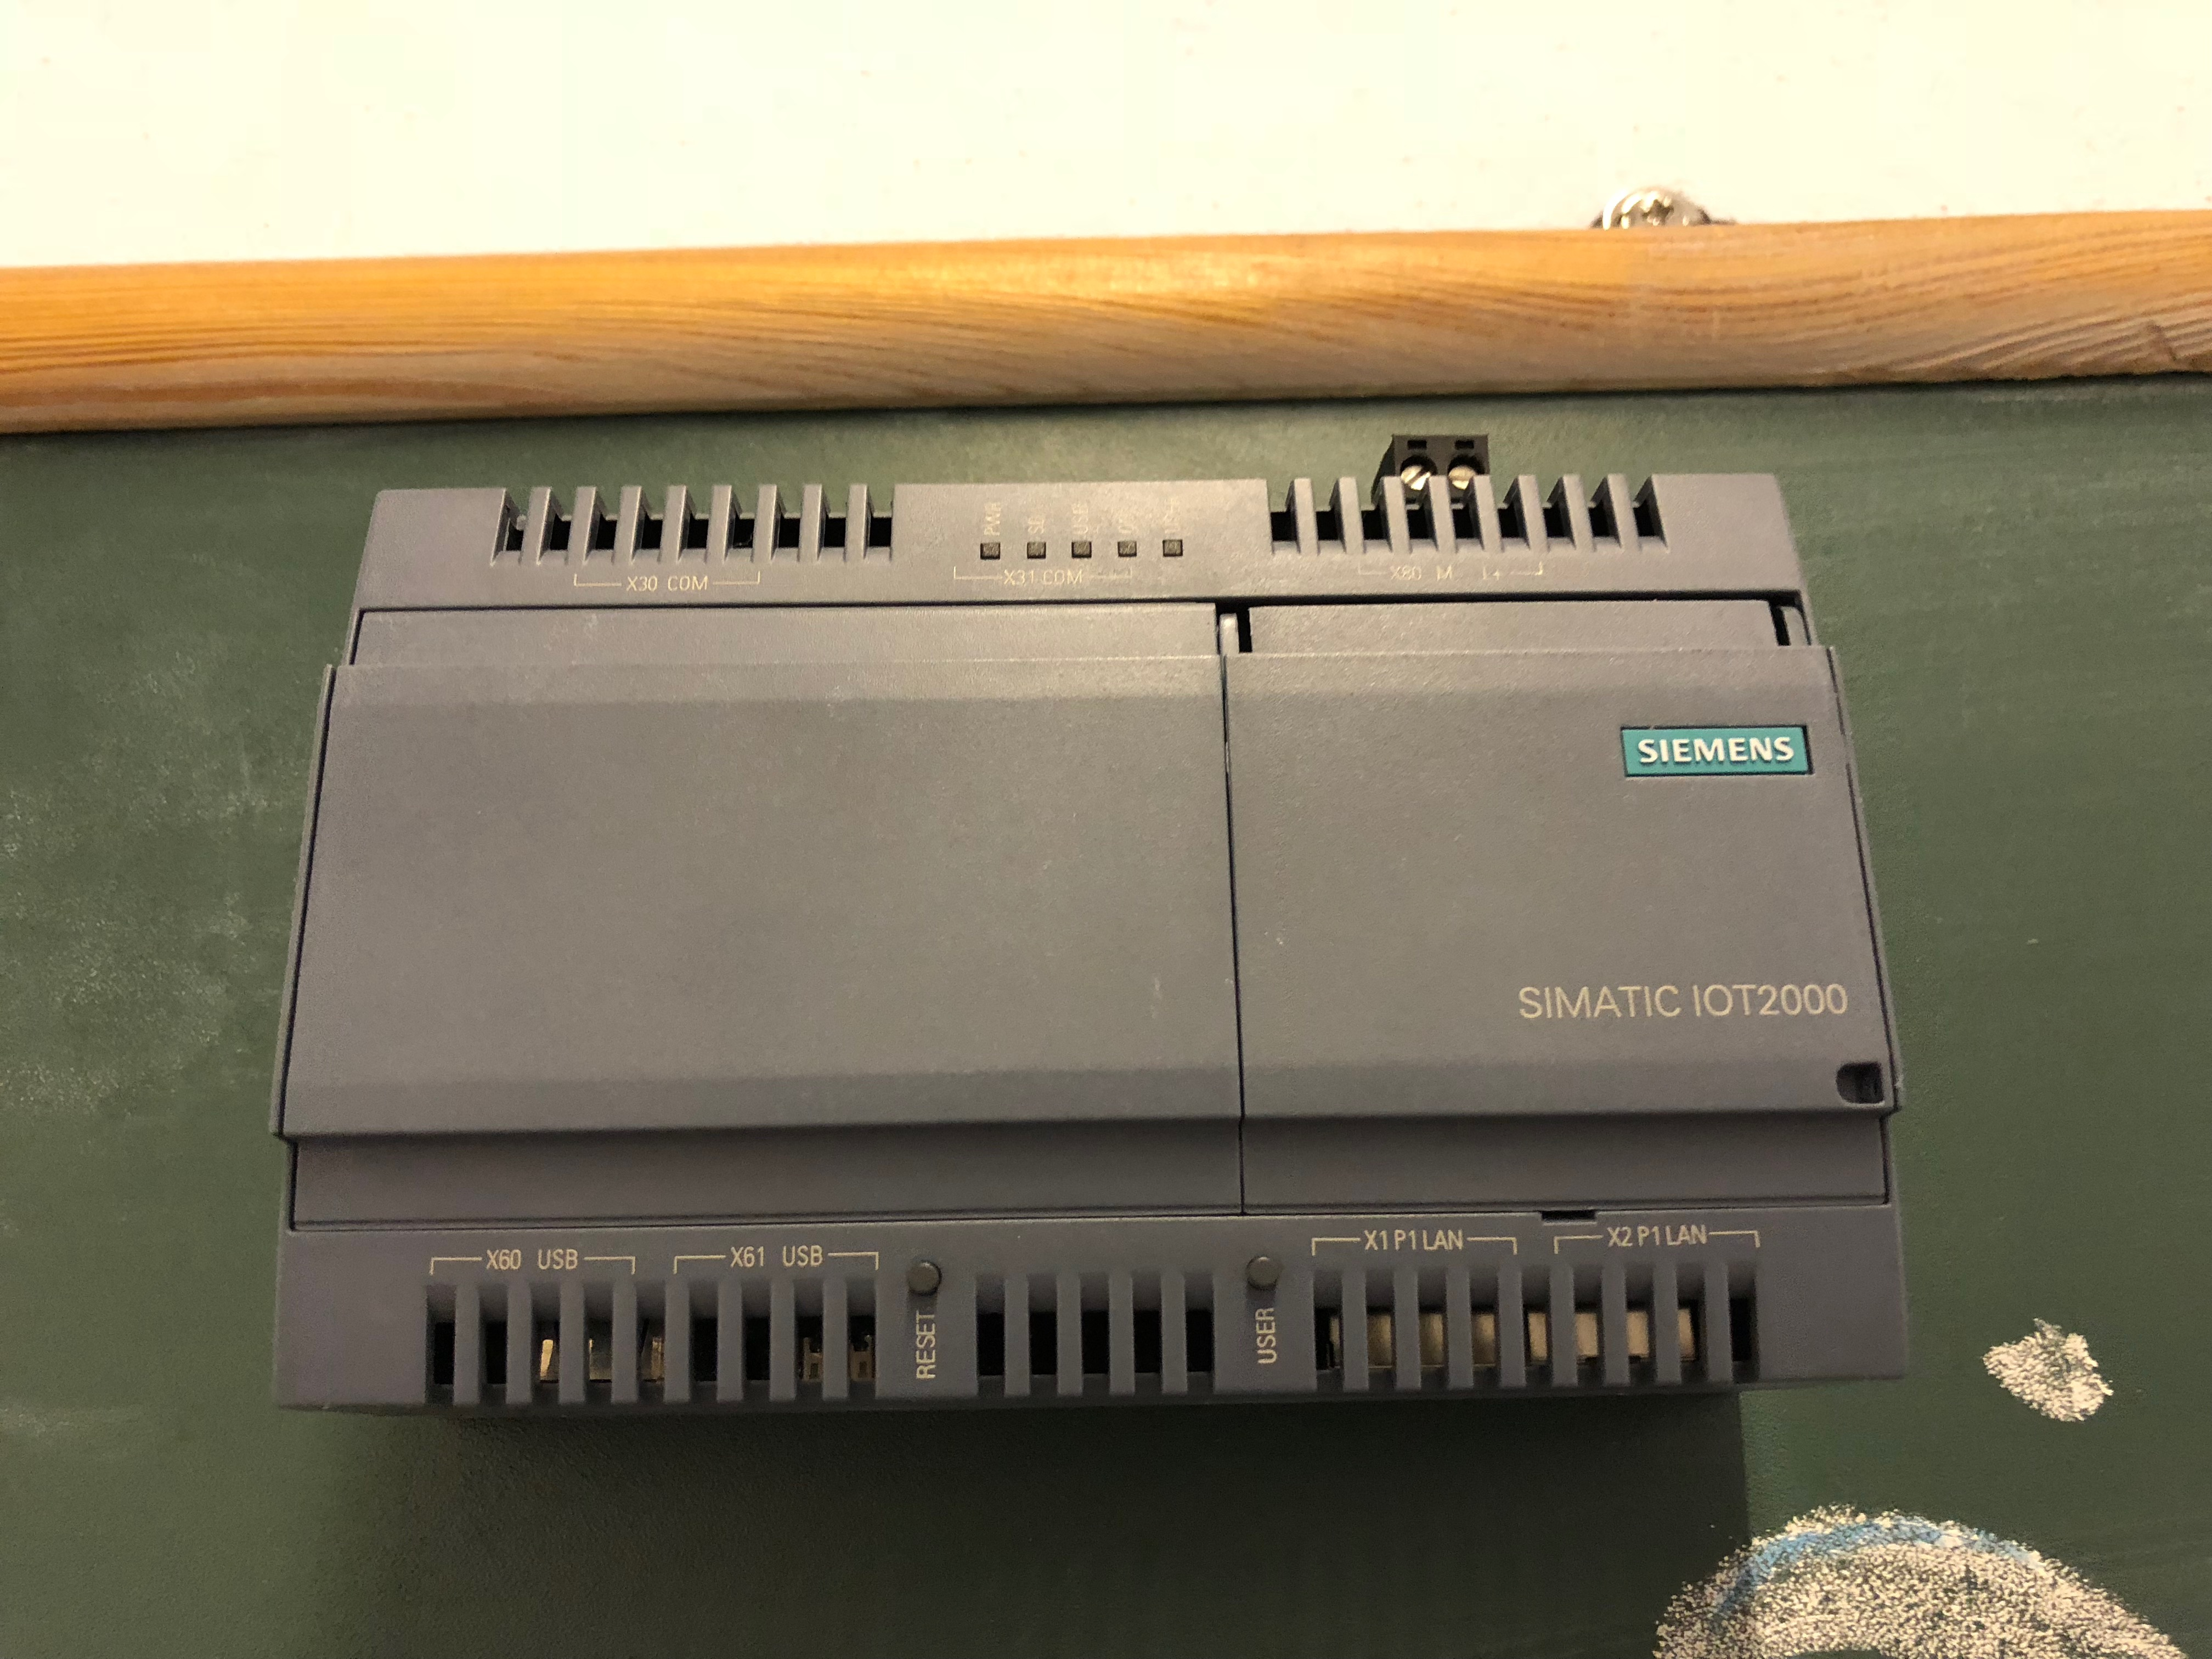device: (272, 434, 1907, 1417)
